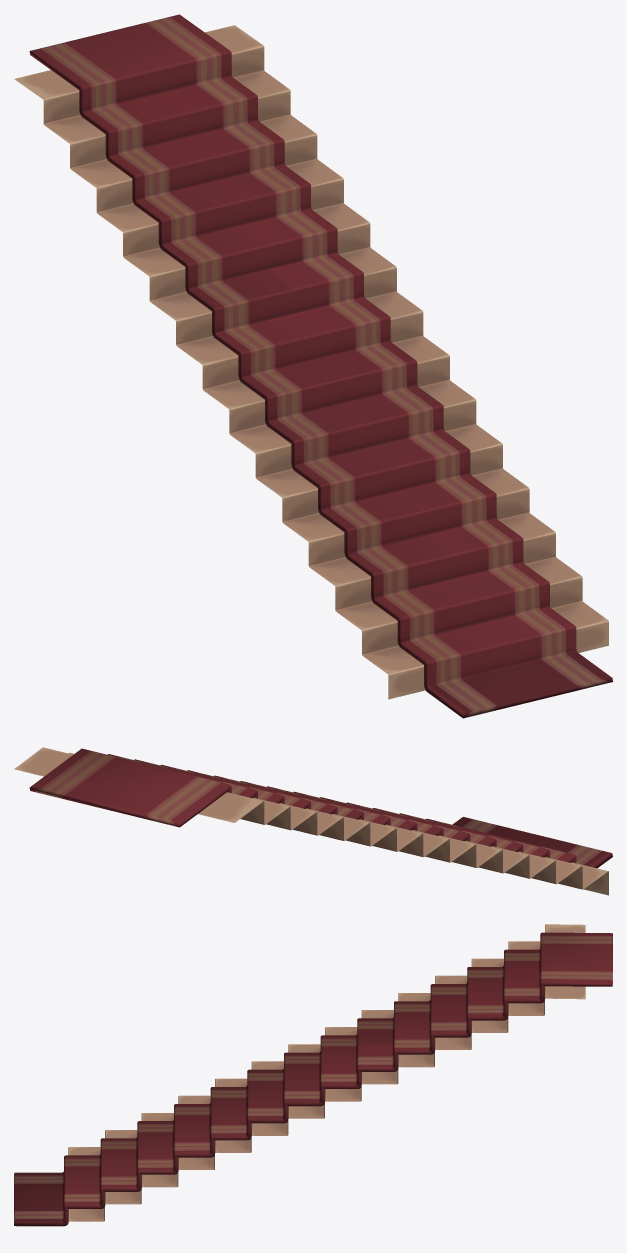
The model's file is stairs (1).fbx.
3 renders of one model, top to bottom at view 1: azimuth 30°, elevation 25°; view 2: azimuth 150°, elevation 25°; view 3: azimuth 270°, elevation 25°, orthographic. The views are drawn at different scales.
Visible parts, largest first — view 1: stairsRug, Stairs (1); view 2: stairsRug, Stairs (1); view 3: stairsRug, Stairs (1).
Boxes of the visible parts, x1,y1,x2,y2 form: stairsRug: [29, 14, 612, 718]; Stairs (1): [14, 25, 608, 699]; stairsRug: [29, 748, 612, 868]; Stairs (1): [14, 747, 608, 895]; stairsRug: [14, 932, 612, 1226]; Stairs (1): [68, 924, 585, 1221].
Size of the model in its own units: 800 by 1222 by 2721.
Materials: 1 (1 with a texture image).
